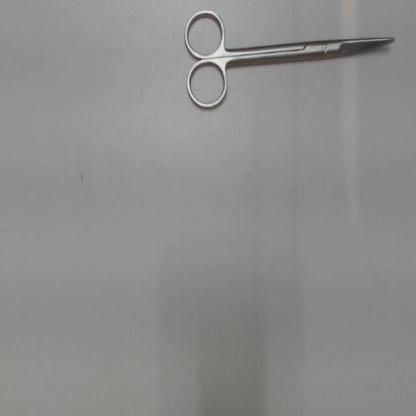Curved Mayo Scissors: (181, 7, 397, 114)
